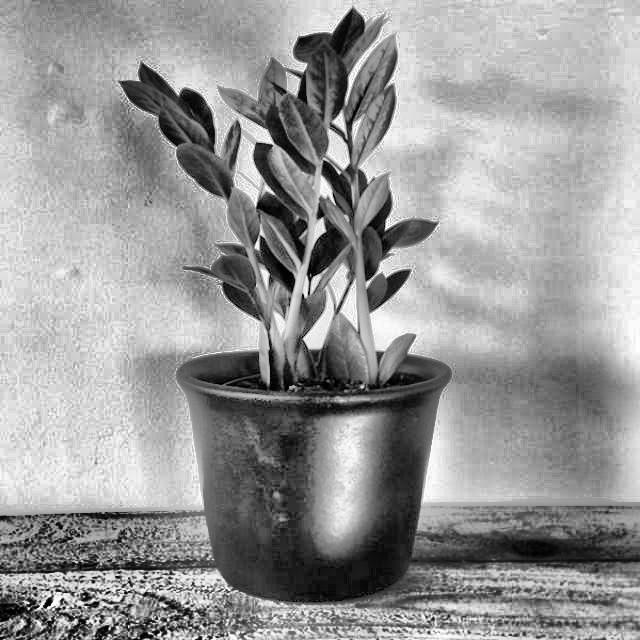plants: (106, 6, 467, 590)
